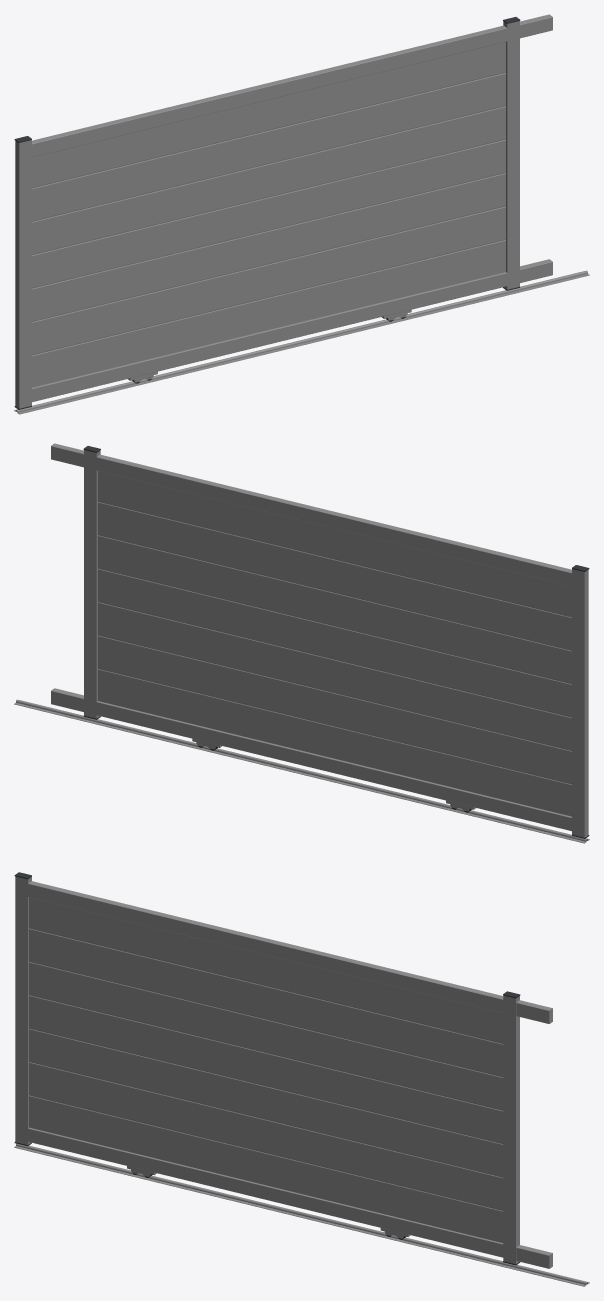
3 renders of one model, top to bottom at view 1: azimuth 30°, elevation 25°; view 2: azimuth 150°, elevation 25°; view 3: azimuth 330°, elevation 25°, orthographic.
Visible parts, largest first — view 1: Shape174, Shape175, Shape177, Shape178, Shape176, Shape173, Shape179, Shape096, Shape095, Pilar, Pilar001, Rail; view 2: Shape178, Shape174, Shape177, Shape175, Shape176, Shape173, Shape179, Shape096, Shape095, Pilar, Pilar001, Rail; view 3: Shape176, Shape178, Shape175, Shape174, Shape177, Shape173, Shape179, Shape096, Shape095, Pilar001, Pilar, Rail.
Part boxes in pixels (bbox=[...]): Shape174: bbox=[32, 206, 505, 354]; Shape175: bbox=[32, 172, 505, 321]; Shape177: bbox=[32, 106, 505, 254]; Shape178: bbox=[32, 72, 505, 221]; Shape176: bbox=[32, 139, 505, 287]; Shape173: bbox=[32, 239, 505, 387]; Shape179: bbox=[32, 42, 505, 187]; Shape096: bbox=[32, 14, 552, 157]; Shape095: bbox=[32, 259, 552, 401]; Pilar: bbox=[15, 140, 31, 408]; Pilar001: bbox=[503, 21, 519, 289]; Rail: bbox=[14, 270, 589, 414]; Shape178: bbox=[98, 501, 571, 649]; Shape174: bbox=[98, 635, 571, 783]; Shape177: bbox=[98, 534, 571, 683]; Shape175: bbox=[98, 601, 571, 750]; Shape176: bbox=[98, 568, 571, 716]; Shape173: bbox=[98, 668, 571, 816]; Shape179: bbox=[98, 471, 571, 616]; Shape096: bbox=[51, 443, 571, 586]; Shape095: bbox=[51, 688, 571, 831]; Pilar: bbox=[572, 569, 588, 837]; Pilar001: bbox=[84, 450, 100, 718]; Rail: bbox=[14, 699, 589, 843]; Shape176: bbox=[29, 994, 503, 1143]; Shape178: bbox=[29, 928, 503, 1076]; Shape175: bbox=[29, 1028, 503, 1176]; Shape174: bbox=[29, 1061, 503, 1210]; Shape177: bbox=[29, 961, 503, 1109]; Shape173: bbox=[29, 1095, 503, 1242]; Shape179: bbox=[29, 897, 503, 1043]; Shape096: bbox=[28, 881, 552, 1023]; Shape095: bbox=[28, 1127, 552, 1268]; Pilar001: bbox=[503, 995, 519, 1264]; Pilar: bbox=[15, 876, 31, 1144]; Rail: bbox=[14, 1143, 589, 1286].
Bounding box in the file's own units: 3600 × 1640 × 60.02.
5 materials, 2 textured.
